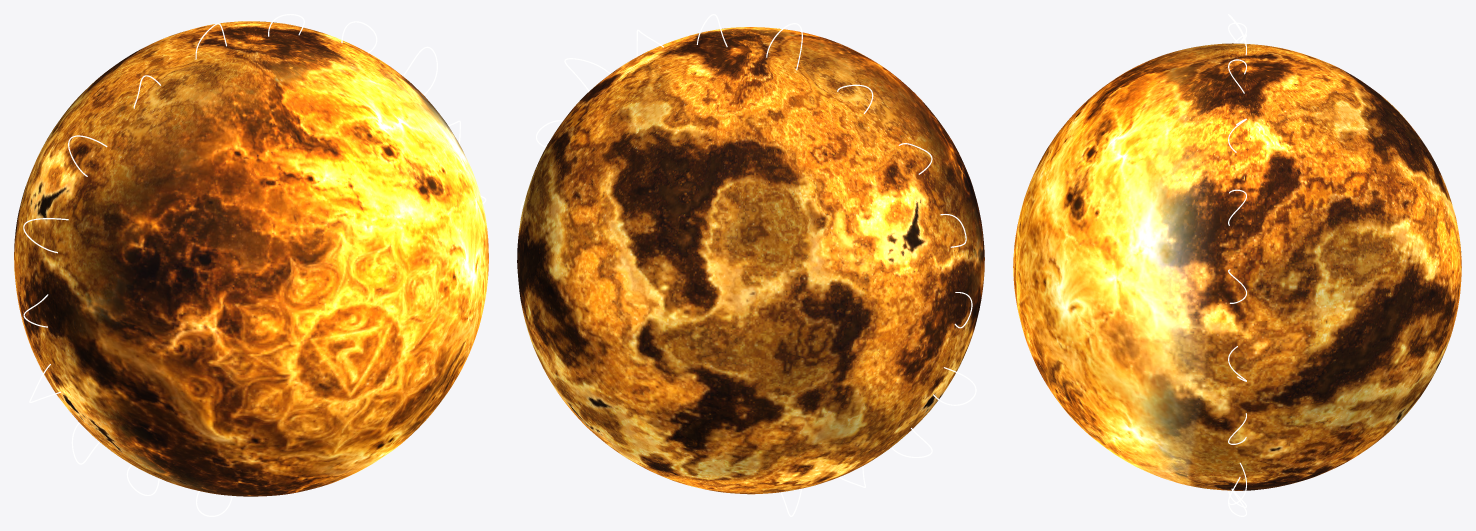
3 views of the same model, side by side, from view 1: azimuth 30°, elevation 25°; view 2: azimuth 150°, elevation 25°; view 3: azimuth 270°, elevation 25° (orthographic). The views are drawn at different scales.
Parts seen in each view (by area): view 1: Surface, Energy Filaments; view 2: Surface, Energy Filaments; view 3: Surface, Energy Filaments.
Boxes of the visible parts, x1,y1,x2,y2 form: Surface: (14, 21, 488, 496); Energy Filaments: (23, 14, 486, 516); Surface: (517, 27, 984, 494); Energy Filaments: (520, 14, 976, 516); Surface: (1013, 43, 1461, 490); Energy Filaments: (1228, 14, 1246, 516).
Size of the model in its own units: 2.23 by 2.31 by 2.
2 materials, 1 textured.
